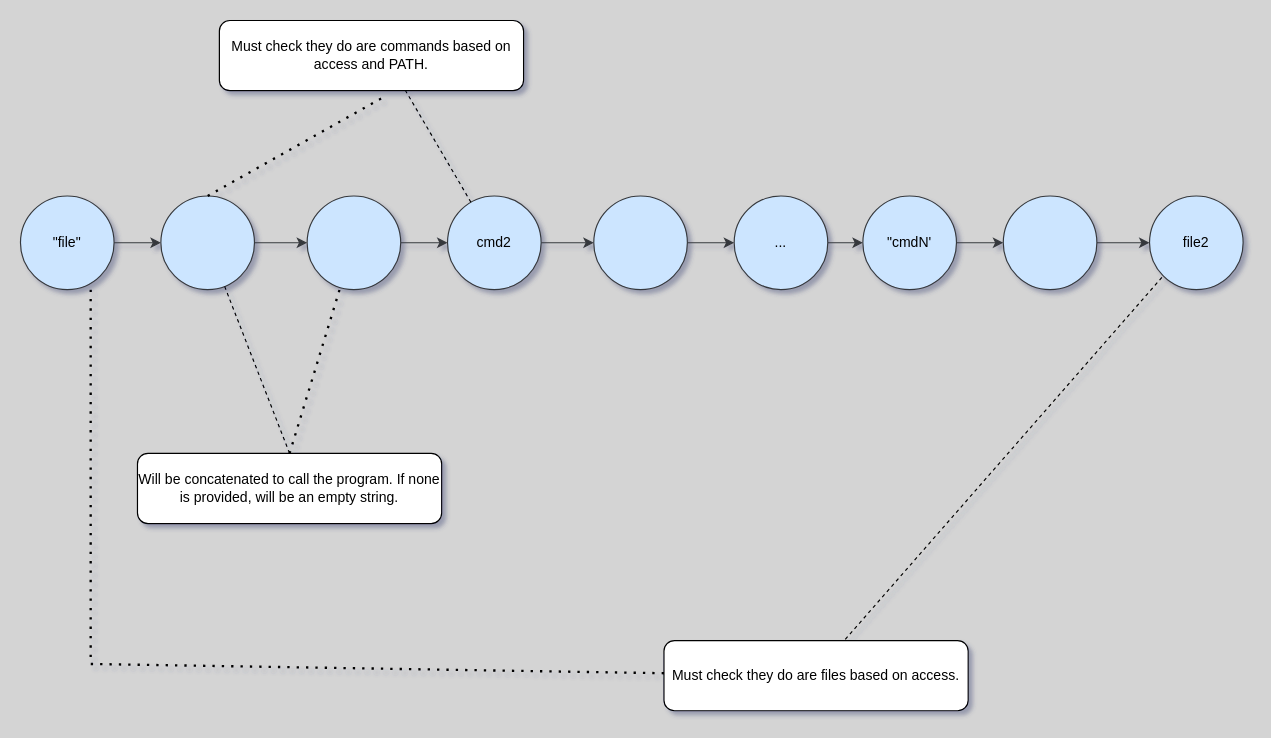
The diagram is 1271 pixels wide and 738 high, and some of its shapes have lost their labels. The box of each missing label's shape, as (x1, y1, x2, y2) in pixels:
"argsN": (1002, 195, 1097, 290)
args: (306, 195, 401, 290)
args2: (593, 195, 687, 290)
cmd1: (160, 195, 254, 290)
